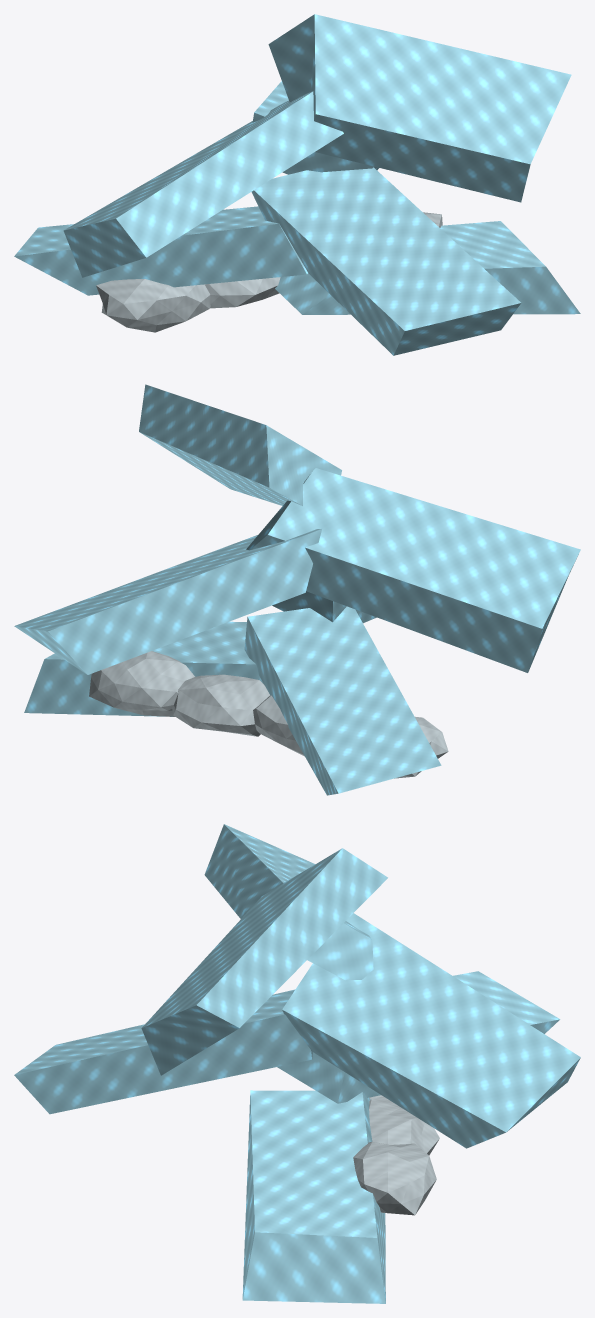
File: underworld-resource-clear-ice.glb
3 renders of one model, top to bottom at view 1: azimuth 30°, elevation 25°; view 2: azimuth 150°, elevation 25°; view 3: azimuth 270°, elevation 25°, orthographic. The views are drawn at different scales.
Parts seen in each view (by area): view 1: fractured-ice-5, fractured-ice-2, fractured-ice-4, fractured-ice-1, fractured-ice-0, frozen-inclusion-0, frozen-inclusion-1, fractured-ice-3; view 2: fractured-ice-4, fractured-ice-1, fractured-ice-3, fractured-ice-5, fractured-ice-0, frozen-inclusion-3, frozen-inclusion-2, frozen-inclusion-1, fractured-ice-2, frozen-inclusion-0; view 3: fractured-ice-3, fractured-ice-0, fractured-ice-5, fractured-ice-2, fractured-ice-4, frozen-inclusion-3, fractured-ice-1, frozen-inclusion-2.
Part boxes in pixels (<box>): fractured-ice-5: <box>268,14,571,202</box>; fractured-ice-2: <box>251,167,520,355</box>; fractured-ice-4: <box>63,91,343,277</box>; fractured-ice-1: <box>14,206,307,295</box>; fractured-ice-0: <box>275,221,580,314</box>; frozen-inclusion-0: <box>96,279,210,332</box>; frozen-inclusion-1: <box>204,277,280,308</box>; fractured-ice-3: <box>252,81,378,174</box>; fractured-ice-4: <box>246,468,580,672</box>; fractured-ice-1: <box>244,606,441,795</box>; fractured-ice-3: <box>14,529,321,674</box>; fractured-ice-5: <box>139,384,341,505</box>; fractured-ice-0: <box>24,621,263,716</box>; frozen-inclusion-3: <box>89,651,194,716</box>; frozen-inclusion-2: <box>172,674,270,736</box>; frozen-inclusion-1: <box>253,695,304,756</box>; fractured-ice-2: <box>272,591,376,623</box>; frozen-inclusion-0: <box>394,716,448,778</box>; fractured-ice-3: <box>282,913,580,1148</box>; fractured-ice-0: <box>242,1090,385,1303</box>; fractured-ice-5: <box>141,848,387,1075</box>; fractured-ice-2: <box>14,989,312,1114</box>; fractured-ice-4: <box>204,824,373,980</box>; frozen-inclusion-3: <box>353,1141,436,1215</box>; fractured-ice-1: <box>277,971,560,1103</box>; frozen-inclusion-2: <box>369,1096,439,1155</box>.
Size of the model in its own units: 0.2121 by 0.1359 by 0.2038.
2 materials, 2 textured.
